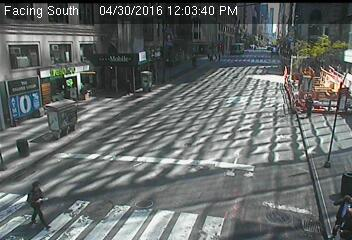neg: (62, 58, 89, 93), (35, 115, 62, 150), (237, 126, 262, 159), (134, 66, 155, 95), (108, 19, 128, 45), (217, 96, 235, 120), (165, 149, 180, 169), (177, 76, 192, 96), (277, 195, 290, 212), (229, 68, 240, 82), (267, 40, 277, 54), (190, 14, 198, 25), (252, 32, 258, 41)
pos: (11, 178, 50, 230), (324, 191, 351, 237), (298, 88, 320, 117), (206, 50, 215, 61), (213, 53, 220, 61)
